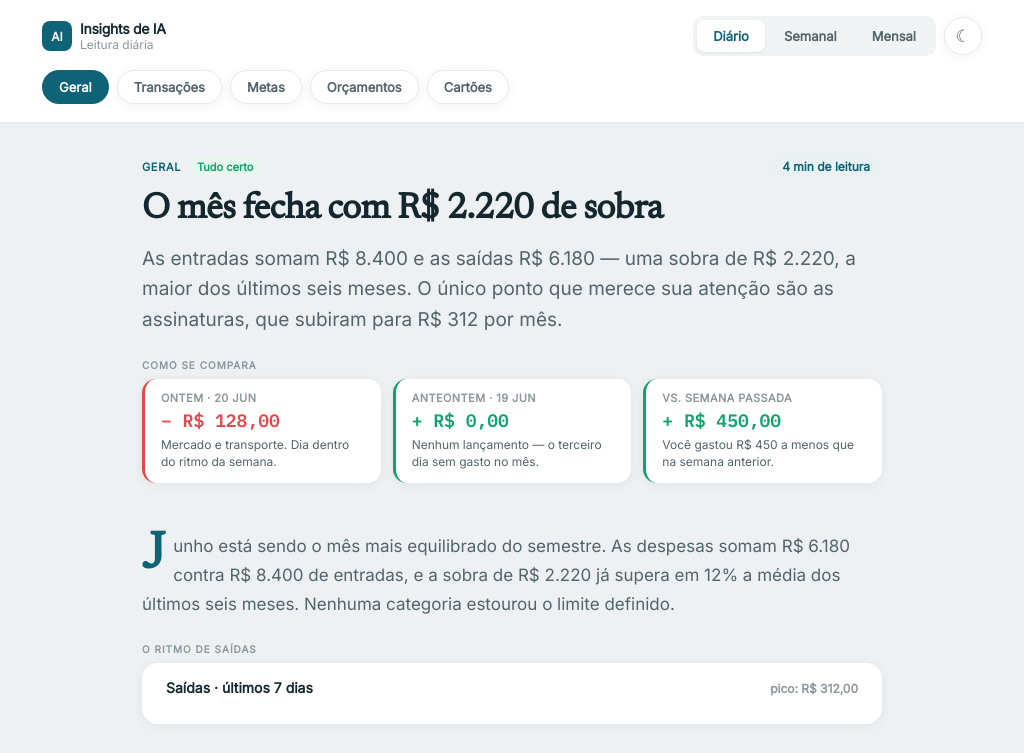
Scenario: InsightsFluida › switches to a theme reading with highlight tiles when a tab is selected
Click the tab with class "fluida-tabs__tab" showing "Cartões": x=468, y=87 [427,70,509,104]
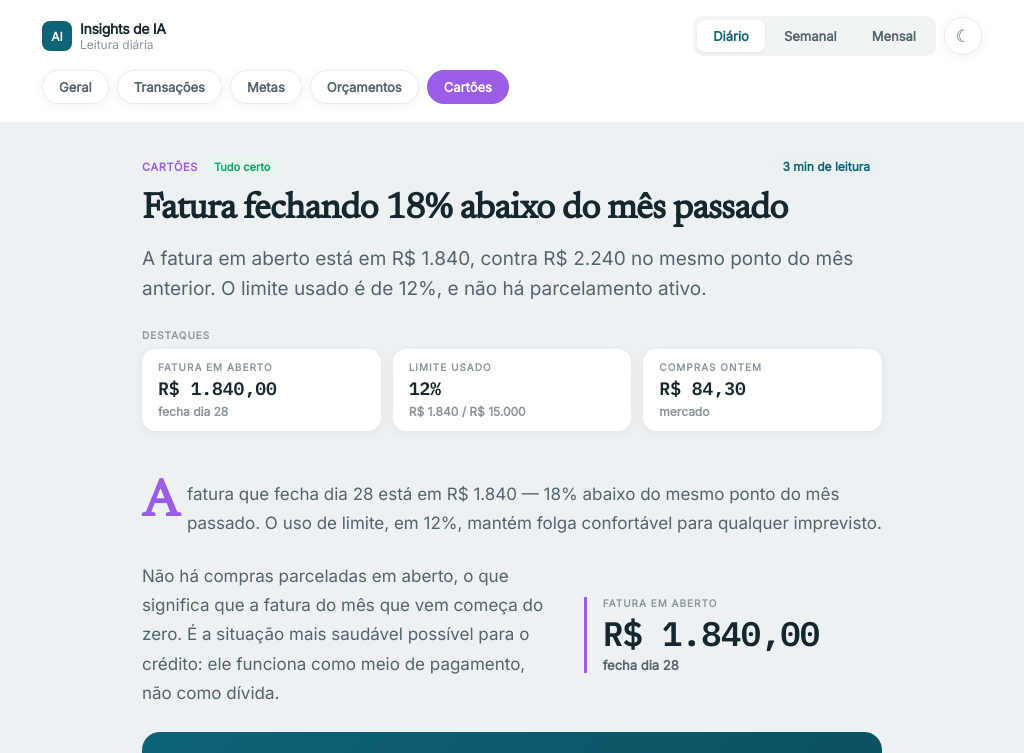
Now the text "fatura em aberto" is shown, box [142,247,853,300]
Now the text "Ontem · 20 jun" is gone
